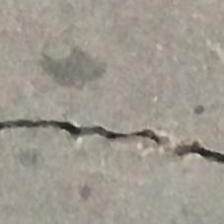Crack: (0, 44, 224, 224)
